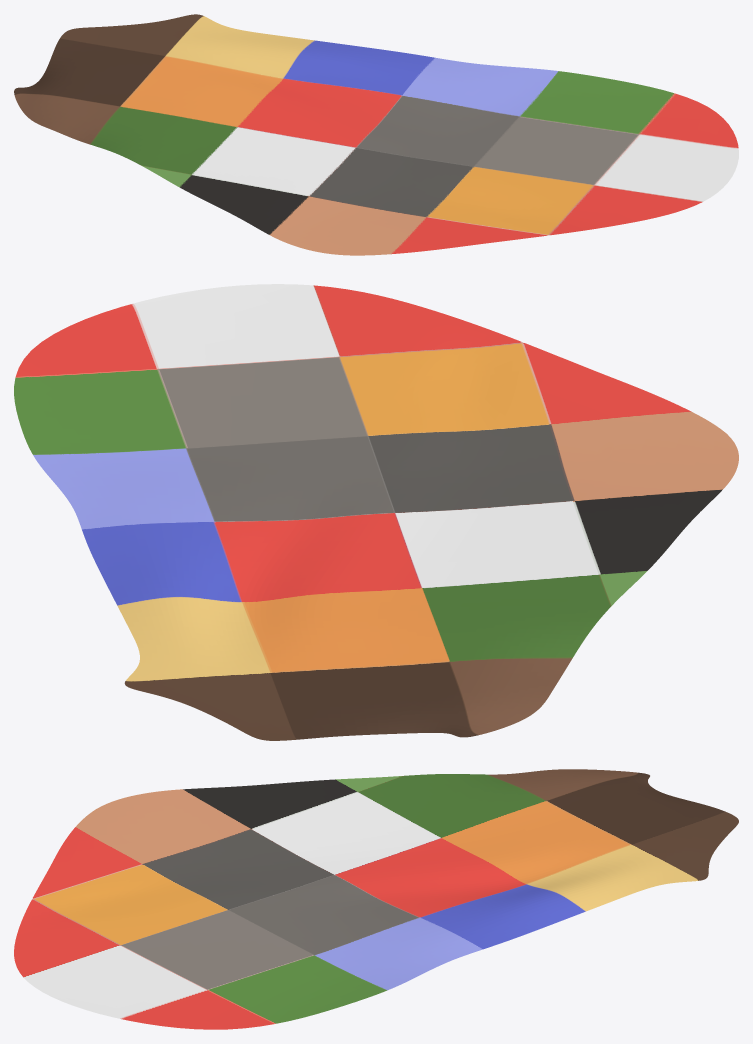
The model's file is lvl2grassforest.fbx.
3 views of the same model, one above another, from view 1: azimuth 30°, elevation 25°; view 2: azimuth 150°, elevation 25°; view 3: azimuth 270°, elevation 25° (orthographic). The views are drawn at different scales.
Visible parts, largest first — view 1: fallentreeforestgrass; view 2: fallentreeforestgrass; view 3: fallentreeforestgrass.
Boxes of the visible parts, <box> form: fallentreeforestgrass: <box>14,14,738,255</box>; fallentreeforestgrass: <box>14,284,738,740</box>; fallentreeforestgrass: <box>14,769,738,1029</box>.
Bounding box in the file's own units: 37.94 × 0.7544 × 43.25.
